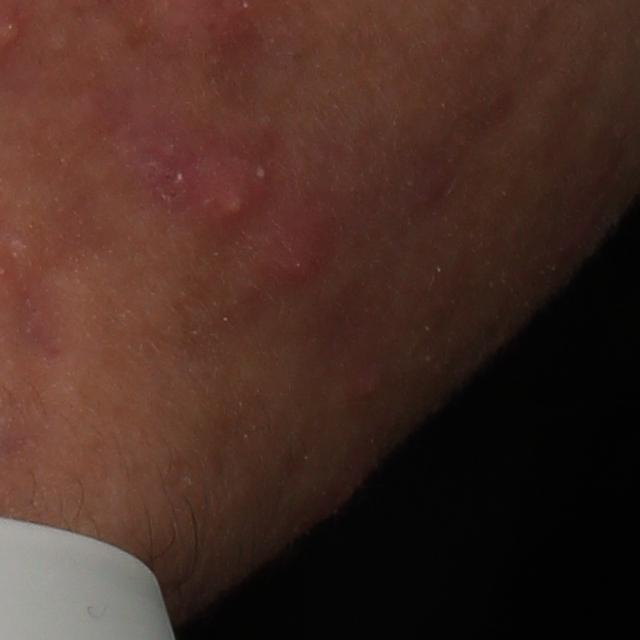papule: (295, 466, 375, 541), (261, 226, 347, 289), (412, 160, 454, 212)
pustule: (186, 156, 287, 236)
